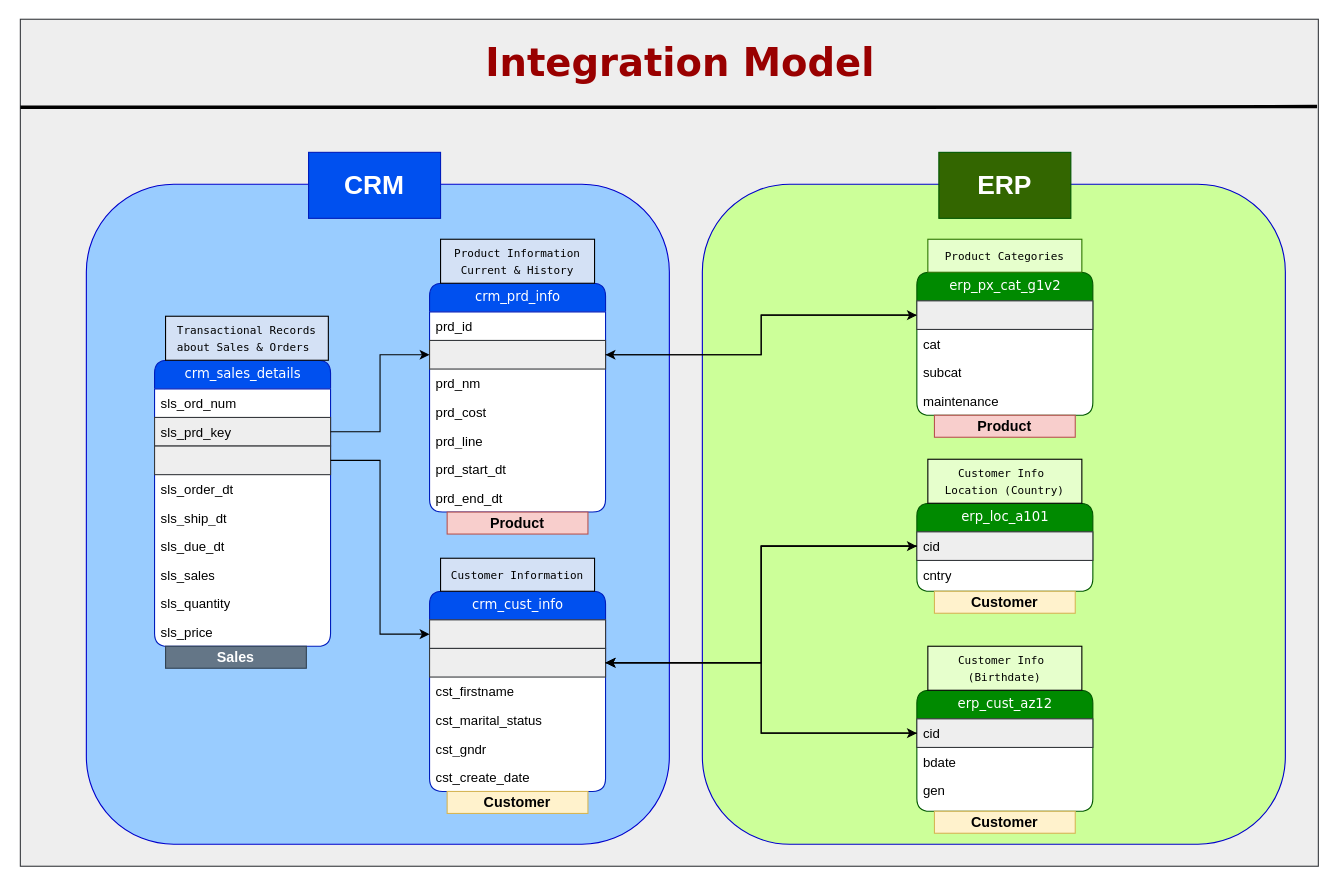
Some shapes in this 1339 by 886 pixel diagram are drawn without their labels. The shapes that lost their labels are listed below. From the top down, each one's centre as x and y in pixels, then its label:
At point (1004, 314): "id".
At point (517, 354): "prd_key".
At point (242, 460): "sls_cust_id".
At point (517, 633): "cst_id".
At point (517, 662): "cst_key".
